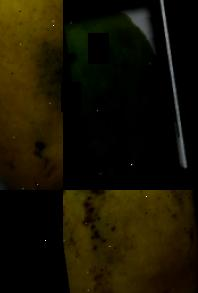Ripe: (63, 190, 198, 293), (0, 0, 63, 190)
Unripe: (63, 0, 190, 190), (0, 190, 63, 293)
